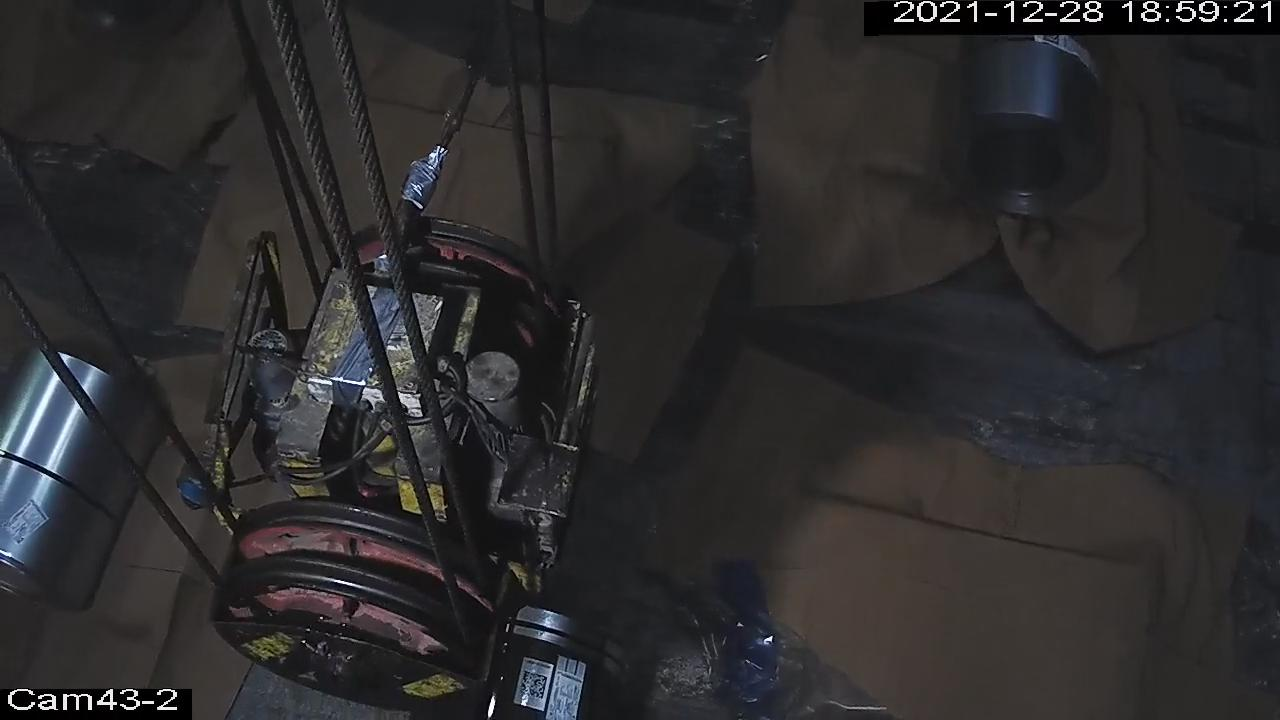data matrix: (518, 668, 551, 702)
